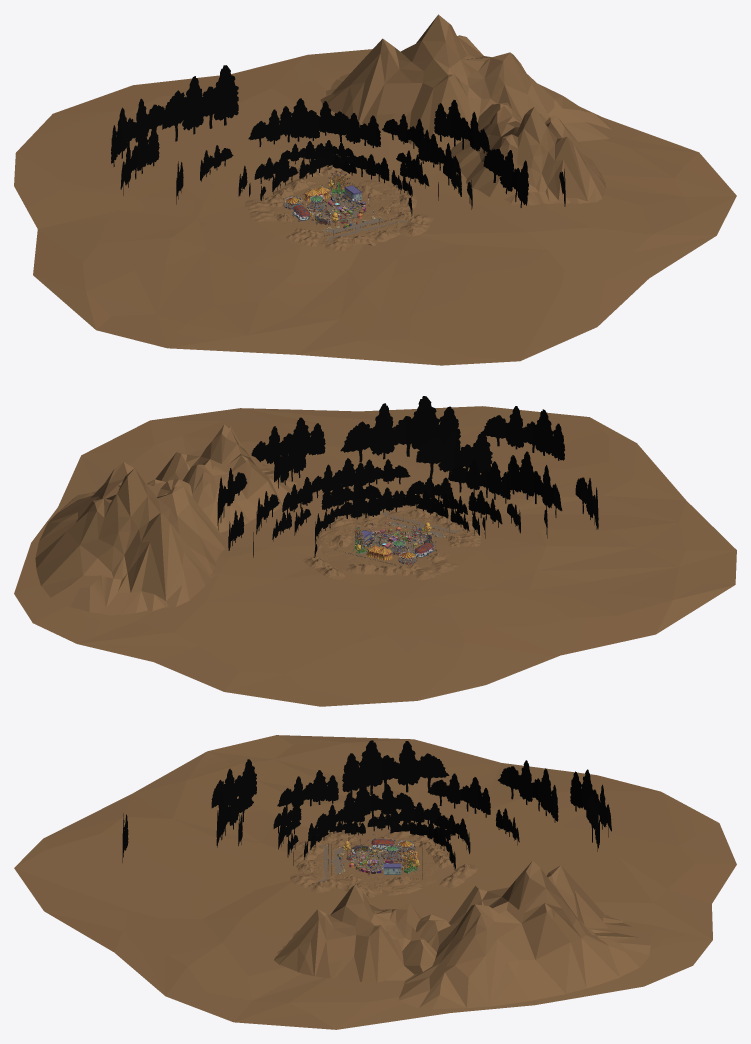
File: circus.fbx
3 renders of one model, top to bottom at view 1: azimuth 30°, elevation 25°; view 2: azimuth 150°, elevation 25°; view 3: azimuth 270°, elevation 25°, orthographic. The views are drawn at different scales.
Parts seen in each view (by area): view 1: SM_Env_Ground_Grass_01__95_, SM_Env_Ground_Hill_03__5_, SM_Env_Ground_Hill_03__4_, SM_Env_Background_Card_02_9, SM_Env_Background_Card_01_11, SM_Env_Background_Card_01_26, SM_Env_Background_Card_01_14, SM_Env_Background_Card_02_3, SM_Env_Background_Card_01_7, SM_Env_Background_Card_02_1, SM_Env_Background_Card_01_19, SM_Env_Background_Card_01_4 (+2 smaller); view 2: SM_Env_Ground_Grass_01__95_, SM_Env_Ground_Hill_03__5_, SM_Env_Ground_Hill_03__4_, SM_Env_Background_Card_01_24, SM_Env_Background_Card_01_15, SM_Env_Background_Card_02__1_, SM_Env_Background_Card_01_10, SM_Env_Background_Card_01_3, SM_Env_Background_Card_01_25, SM_Env_Background_Card_02_3, SM_Env_Background_Card_01_6, SM_Env_Background_Card_01_5 (+7 smaller); view 3: SM_Env_Ground_Grass_01__95_, SM_Env_Ground_Hill_03__5_, SM_Env_Ground_Hill_03__4_, SM_Env_Background_Card_01__3_, SM_Env_Background_Card_01_7, SM_Env_Background_Card_01_1, SM_Env_Background_Card_01_29, SM_Env_Background_Card_01_21, SM_Env_Background_Card_01_14, SM_Env_Background_Card_02_11, SM_Env_Background_Card_01_10, SM_Env_Background_Card_01__1_ (+1 smaller).
Part boxes in pixels (x1=…): SM_Env_Ground_Grass_01__95_: x1=14, y1=49, x2=736, y2=365; SM_Env_Ground_Hill_03__5_: x1=320, y1=14, x2=612, y2=150; SM_Env_Ground_Hill_03__4_: x1=450, y1=105, x2=606, y2=205; SM_Env_Background_Card_02_9: x1=162, y1=65, x2=238, y2=141; SM_Env_Background_Card_01_11: x1=248, y1=104, x2=320, y2=146; SM_Env_Background_Card_01_26: x1=434, y1=100, x2=489, y2=153; SM_Env_Background_Card_01_14: x1=111, y1=98, x2=164, y2=166; SM_Env_Background_Card_02_3: x1=483, y1=149, x2=528, y2=207; SM_Env_Background_Card_01_7: x1=120, y1=124, x2=159, y2=195; SM_Env_Background_Card_02_1: x1=328, y1=113, x2=380, y2=147; SM_Env_Background_Card_01_19: x1=382, y1=114, x2=429, y2=148; SM_Env_Background_Card_01_4: x1=418, y1=134, x2=459, y2=173; SM_Env_Ground_Grass_01__95_: x1=14, y1=406, x2=736, y2=706; SM_Env_Ground_Hill_03__5_: x1=35, y1=462, x2=226, y2=615; SM_Env_Ground_Hill_03__4_: x1=147, y1=424, x2=297, y2=532; SM_Env_Background_Card_01_24: x1=340, y1=396, x2=460, y2=461; SM_Env_Background_Card_01_15: x1=482, y1=406, x2=564, y2=460; SM_Env_Background_Card_02__1_: x1=416, y1=431, x2=492, y2=478; SM_Env_Background_Card_01_10: x1=507, y1=451, x2=562, y2=517; SM_Env_Background_Card_01_3: x1=251, y1=417, x2=325, y2=464; SM_Env_Background_Card_01_25: x1=448, y1=458, x2=510, y2=503; SM_Env_Background_Card_02_3: x1=274, y1=429, x2=306, y2=488; SM_Env_Background_Card_01_6: x1=311, y1=458, x2=366, y2=497; SM_Env_Background_Card_01_5: x1=321, y1=478, x2=382, y2=511; SM_Env_Ground_Grass_01__95_: x1=14, y1=735, x2=736, y2=1029; SM_Env_Ground_Hill_03__5_: x1=398, y1=860, x2=650, y2=1009; SM_Env_Ground_Hill_03__4_: x1=274, y1=885, x2=436, y2=982; SM_Env_Background_Card_01__3_: x1=342, y1=740, x2=449, y2=794; SM_Env_Background_Card_01_7: x1=497, y1=760, x2=558, y2=822; SM_Env_Background_Card_01_1: x1=427, y1=773, x2=490, y2=817; SM_Env_Background_Card_01_29: x1=277, y1=770, x2=338, y2=811; SM_Env_Background_Card_01_21: x1=343, y1=783, x2=415, y2=817; SM_Env_Background_Card_01_14: x1=570, y1=769, x2=611, y2=837; SM_Env_Background_Card_02_11: x1=211, y1=759, x2=256, y2=815; SM_Env_Background_Card_01_10: x1=216, y1=784, x2=253, y2=847; SM_Env_Background_Card_01__1_: x1=315, y1=800, x2=364, y2=827.
Size of the model in its own units: 86347 by 13331 by 89487.
Materials: 38 (32 with a texture image).
